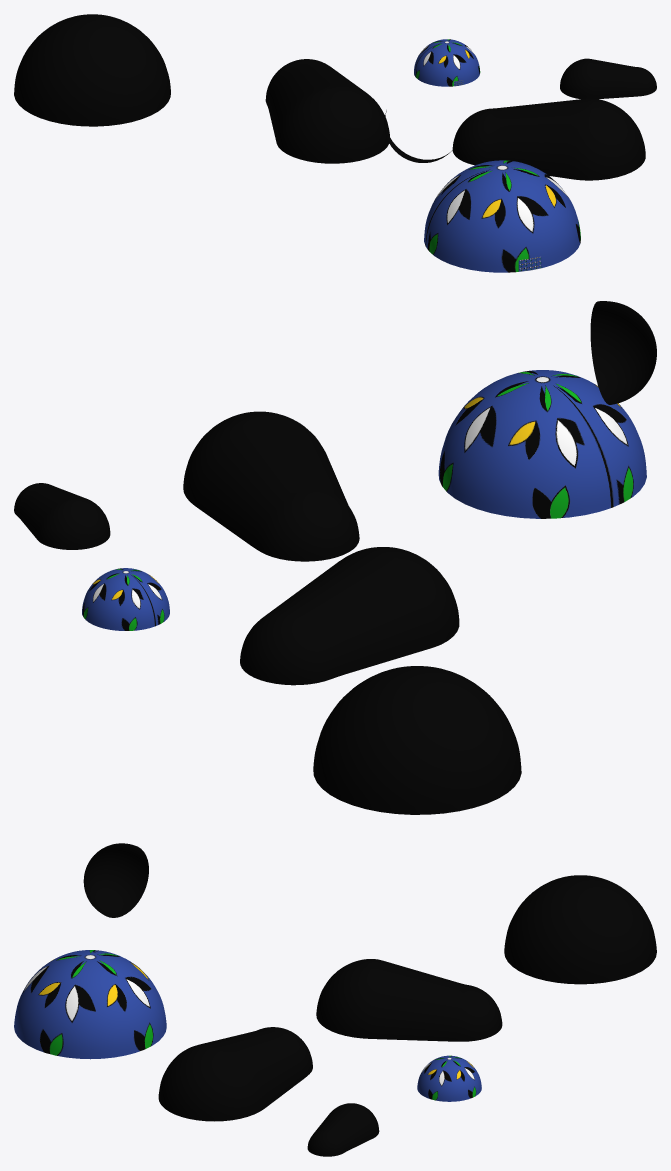
Rendered from skatepark.obj.
3 views of the same model, one above another, from view 1: azimuth 30°, elevation 25°; view 2: azimuth 150°, elevation 25°; view 3: azimuth 270°, elevation 25° (orthographic). The views are drawn at different scales.
Parts seen in each view (by area): view 1: pSphere4, pSphere2, initialShadingGroup polySurface19, initialShadingGroup polySurface11, initialShadingGroup polySurface20, pSphere5; view 2: pSphere4, pSphere2, initialShadingGroup polySurface11, initialShadingGroup polySurface19, initialShadingGroup polySurface8 polySurface3, initialShadingGroup polySurface20, pSphere5; view 3: pSphere4, pSphere2, initialShadingGroup polySurface11, initialShadingGroup polySurface19, initialShadingGroup polySurface8 polySurface3, initialShadingGroup polySurface20, pSphere5.
Part boxes in pixels (x1,y1,x2,y2): pSphere4: [14, 14, 170, 126]; pSphere2: [424, 160, 580, 272]; initialShadingGroup polySurface19: [452, 98, 645, 180]; initialShadingGroup polySurface11: [265, 59, 389, 163]; initialShadingGroup polySurface20: [560, 58, 656, 99]; pSphere5: [414, 39, 480, 86]; pSphere4: [313, 666, 521, 814]; pSphere2: [438, 370, 646, 518]; initialShadingGroup polySurface11: [240, 547, 459, 685]; initialShadingGroup polySurface19: [183, 411, 359, 561]; initialShadingGroup polySurface8 polySurface3: [590, 301, 656, 404]; initialShadingGroup polySurface20: [14, 483, 110, 549]; pSphere5: [82, 568, 169, 630]; pSphere4: [504, 875, 656, 984]; pSphere2: [14, 950, 166, 1059]; initialShadingGroup polySurface11: [316, 959, 502, 1041]; initialShadingGroup polySurface19: [158, 1027, 312, 1121]; initialShadingGroup polySurface8 polySurface3: [83, 843, 148, 917]; initialShadingGroup polySurface20: [307, 1103, 379, 1156]; pSphere5: [417, 1055, 481, 1101].
Size of the model in its own units: 18.84 by 5.58 by 21.61.
